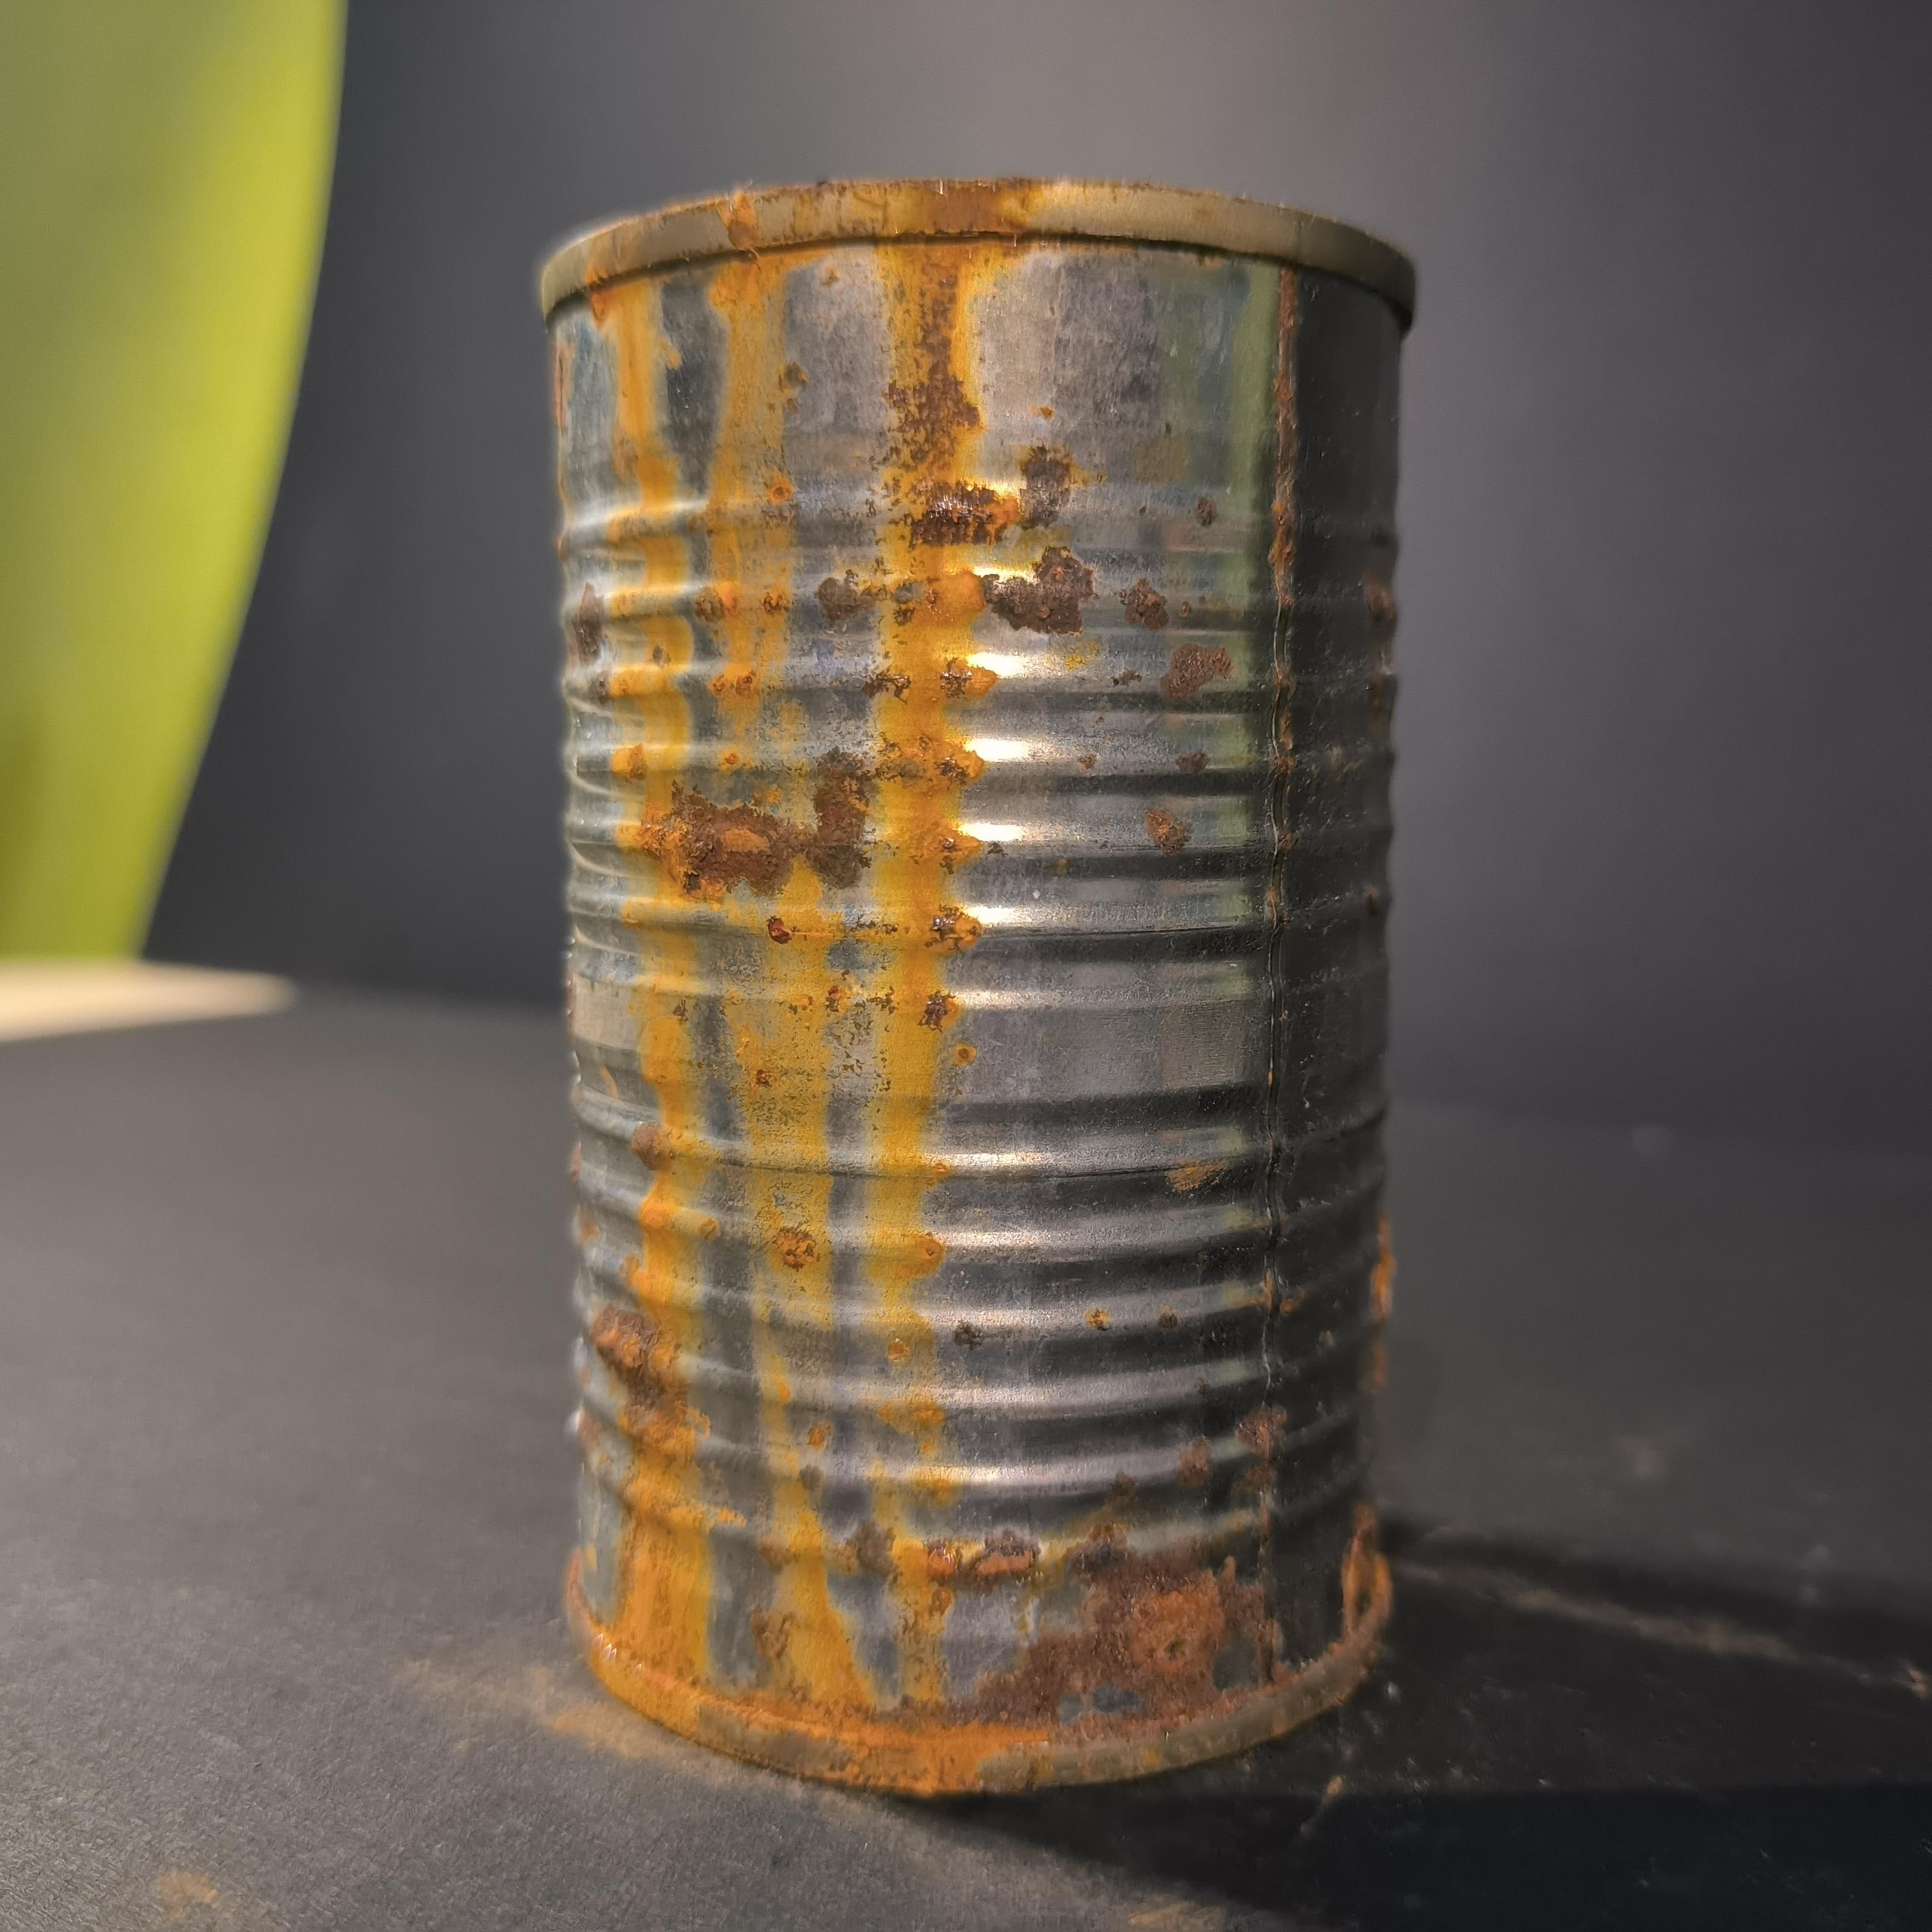Rusted: (504, 166, 1419, 1799)
